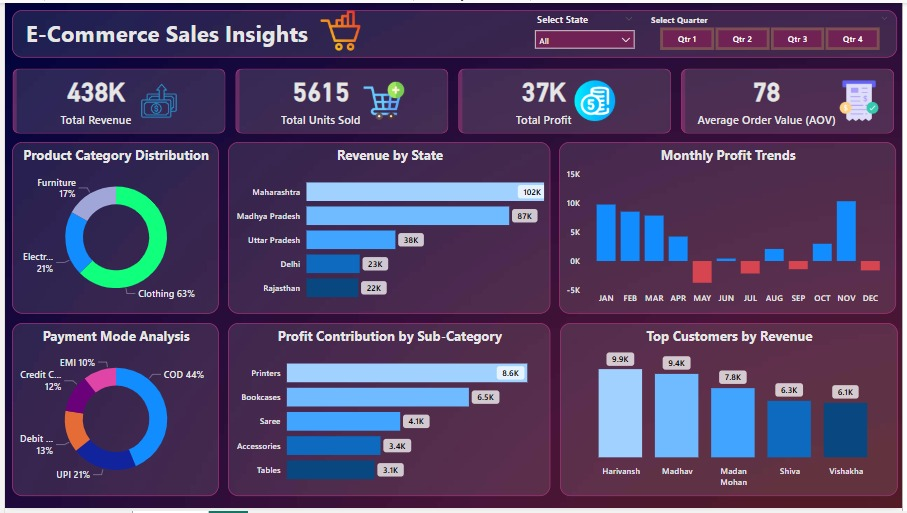

What the dashboard file says about the page in this screenshot:
{"tool":"powerbi","page":{"name":"Page 1","canvas":[1280,720],"ordinal":0},"visuals":[{"type":"textbox","box":[10,10,1263.3,68.3],"z":0},{"type":"columnChart","title":"Monthly Profit Trends","fields":{"Y":["Details.Profit"],"Category":["Orders.Order Month"]},"box":[790.5,198.4,480.9,245.4],"z":1000},{"type":"barChart","title":"Profit Contribution by Sub-Category","fields":{"Category":["Details.Sub-Category"],"Y":["Details.Profit"]},"box":[318.3,456.7,460,246.7],"z":2000},{"type":"donutChart","title":"Product Category Distribution","fields":{"Category":["Details.Category"],"Y":["Details.Quantity"]},"box":[10,198.3,295,245],"z":3000},{"type":"donutChart","title":"Payment Mode Analysis","fields":{"Y":["Details.Quantity"],"Category":["Details.PaymentMode"]},"box":[10,456.7,295,246.7],"z":4000},{"type":"barChart","title":"Revenue by State","fields":{"Category":["Orders.State"],"Y":["Details.Amount"]},"box":[318.3,198.3,460,245],"z":5000},{"type":"columnChart","title":"Top Customers by Revenue","fields":{"Category":["Orders.CustomerName"],"Y":["Details.Amount"]},"box":[791.7,456.7,481.7,246.7],"z":6000},{"type":"slicer","fields":{"Values":["Orders.Order Date.Variation.Date Hierarchy.Quarter"]},"box":[908.3,10,363.3,63.3],"z":7000},{"type":"slicer","fields":{"Values":["Orders.State"]},"box":[746.7,10,161.7,78.3],"z":8000},{"type":"cardVisual","fields":{"Data":["Details.Total Revenue","Details.Total Quantity","Details.Total Profit","Details.Total Avg Order Value"]},"box":[5,88.3,1270,103.3],"z":9000},{"type":"image","box":[445,0,66.7,78.3],"z":10000}]}

Visuals, with their boxes in screenshot pixels (x1, y1, x2, y2), scaled from the page's 1280x720 canvas onto the 907x513 screenshot:
textbox: (7, 7, 902, 56)
"Monthly Profit Trends" columnChart: (560, 141, 901, 316)
"Profit Contribution by Sub-Category" barChart: (226, 325, 551, 501)
"Product Category Distribution" donutChart: (7, 141, 216, 316)
"Payment Mode Analysis" donutChart: (7, 325, 216, 501)
"Revenue by State" barChart: (226, 141, 551, 316)
"Top Customers by Revenue" columnChart: (561, 325, 902, 501)
slicer - Orders.Order Date.Variation.Date Hierarchy.Quarter: (644, 7, 901, 52)
slicer - Orders.State: (529, 7, 644, 63)
cardVisual - Details.Total Revenue x Details.Total Quantity: (4, 63, 903, 137)
image: (315, 0, 363, 56)
